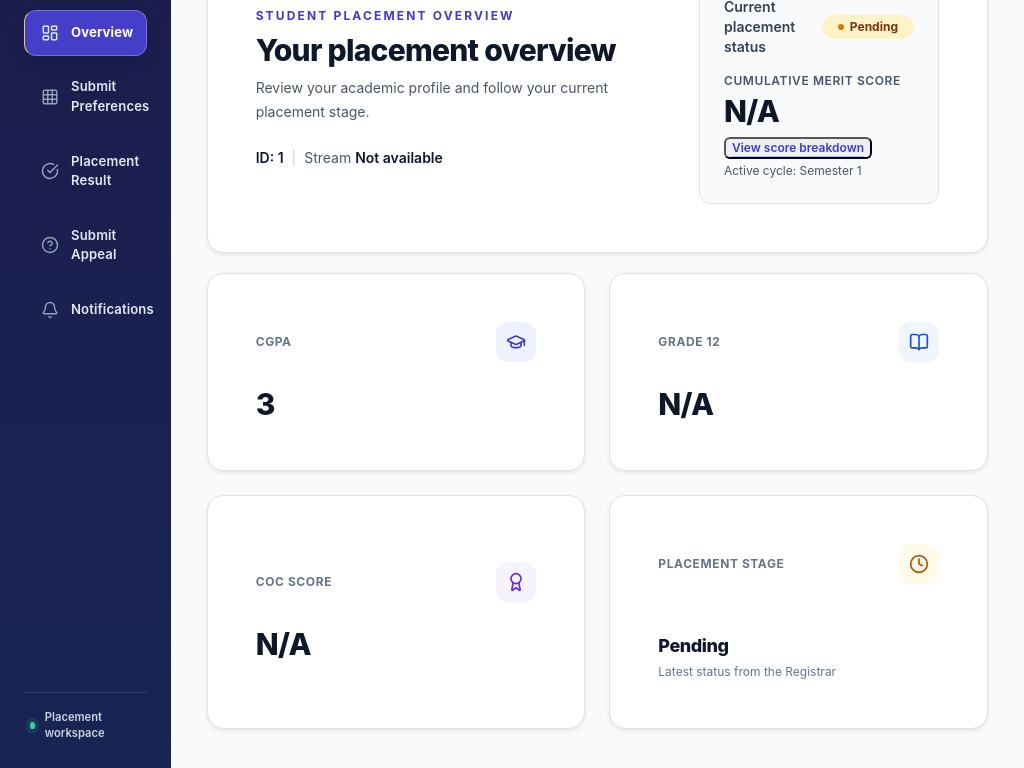
it: StudentDashboard › opens placement results from the placement stage card
(page scrolled)
Click the button with aria-label "View placement status" at (721, 564), box 609,495 -> 988,729
(page scrolled)
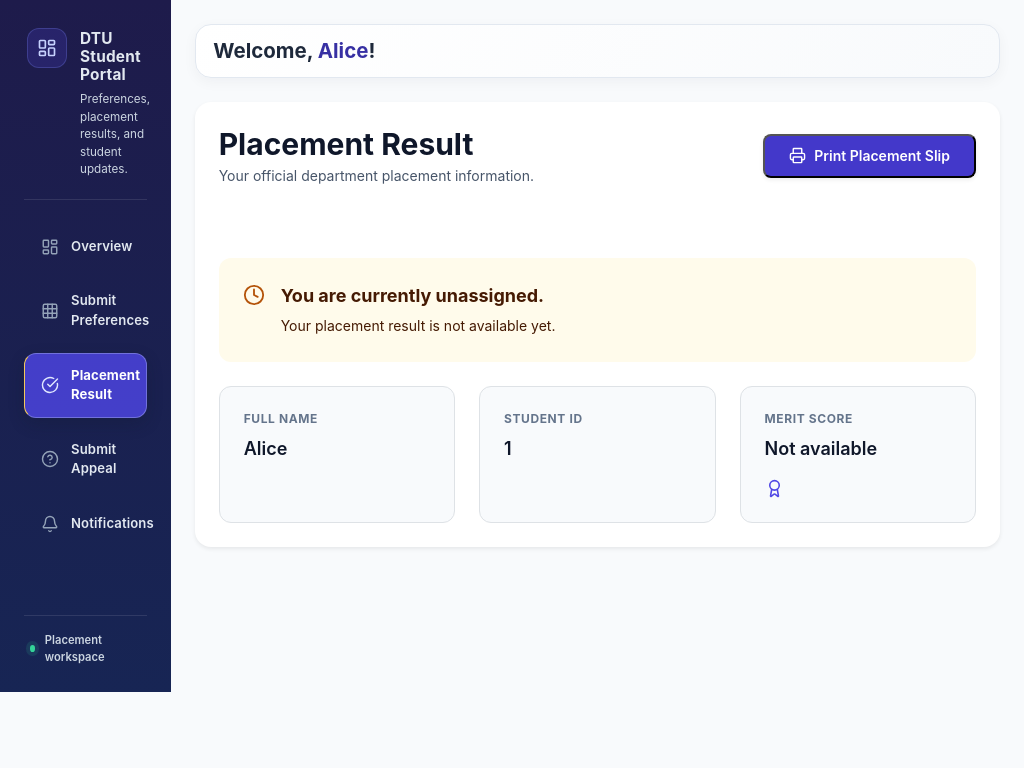
Check: the heading "Placement Result" is shown, box 219,126 -> 474,162
